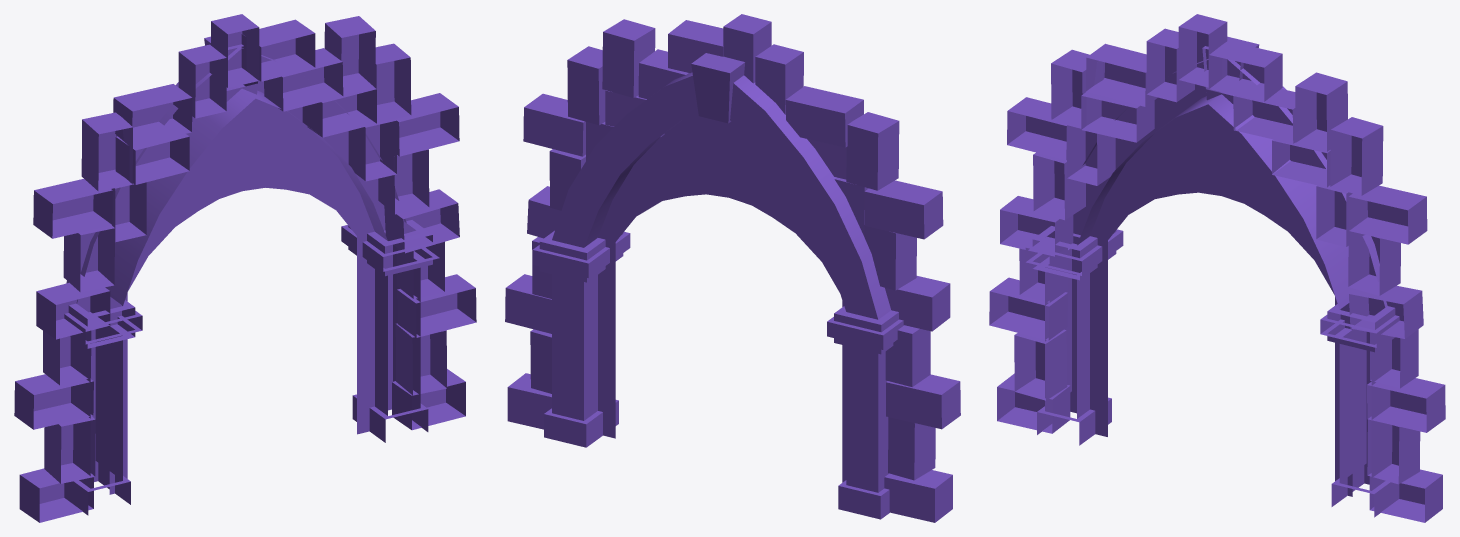
File: gate_b.fbx
3 views of the same model, side by side, from view 1: azimuth 30°, elevation 25°; view 2: azimuth 150°, elevation 25°; view 3: azimuth 330°, elevation 25° (orthographic).
Visible parts, largest first — view 1: gate_b; view 2: gate_b; view 3: gate_b.
Boxes of the visible parts, box(x1,y1,x2,y2) form: gate_b: box(14, 14, 476, 522); gate_b: box(505, 14, 960, 522); gate_b: box(989, 14, 1445, 522).
Size of the model in its own units: 699 by 115 by 673.
